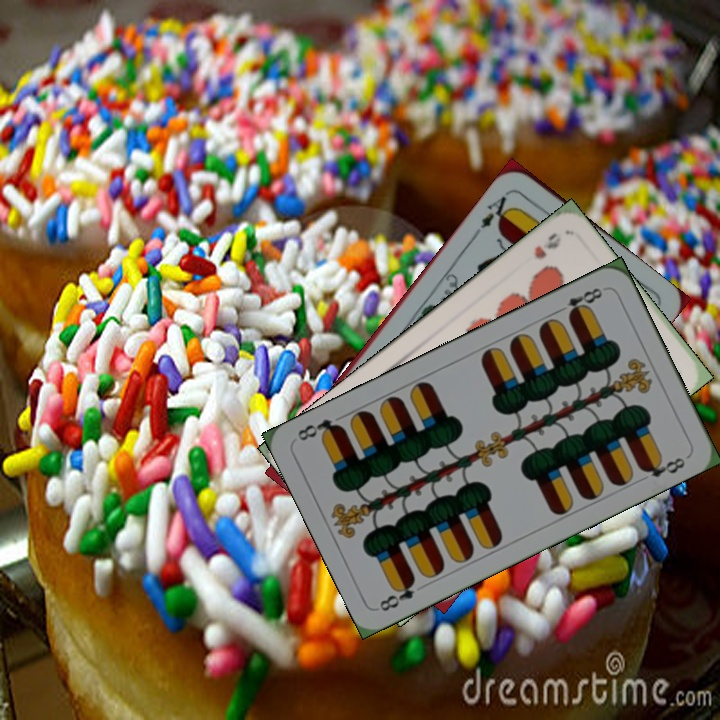E8: (375, 574, 430, 614), (552, 283, 605, 321)
EA: (476, 187, 516, 231)
H9: (529, 228, 564, 262)
